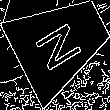N_NE: (32, 13, 90, 72)
